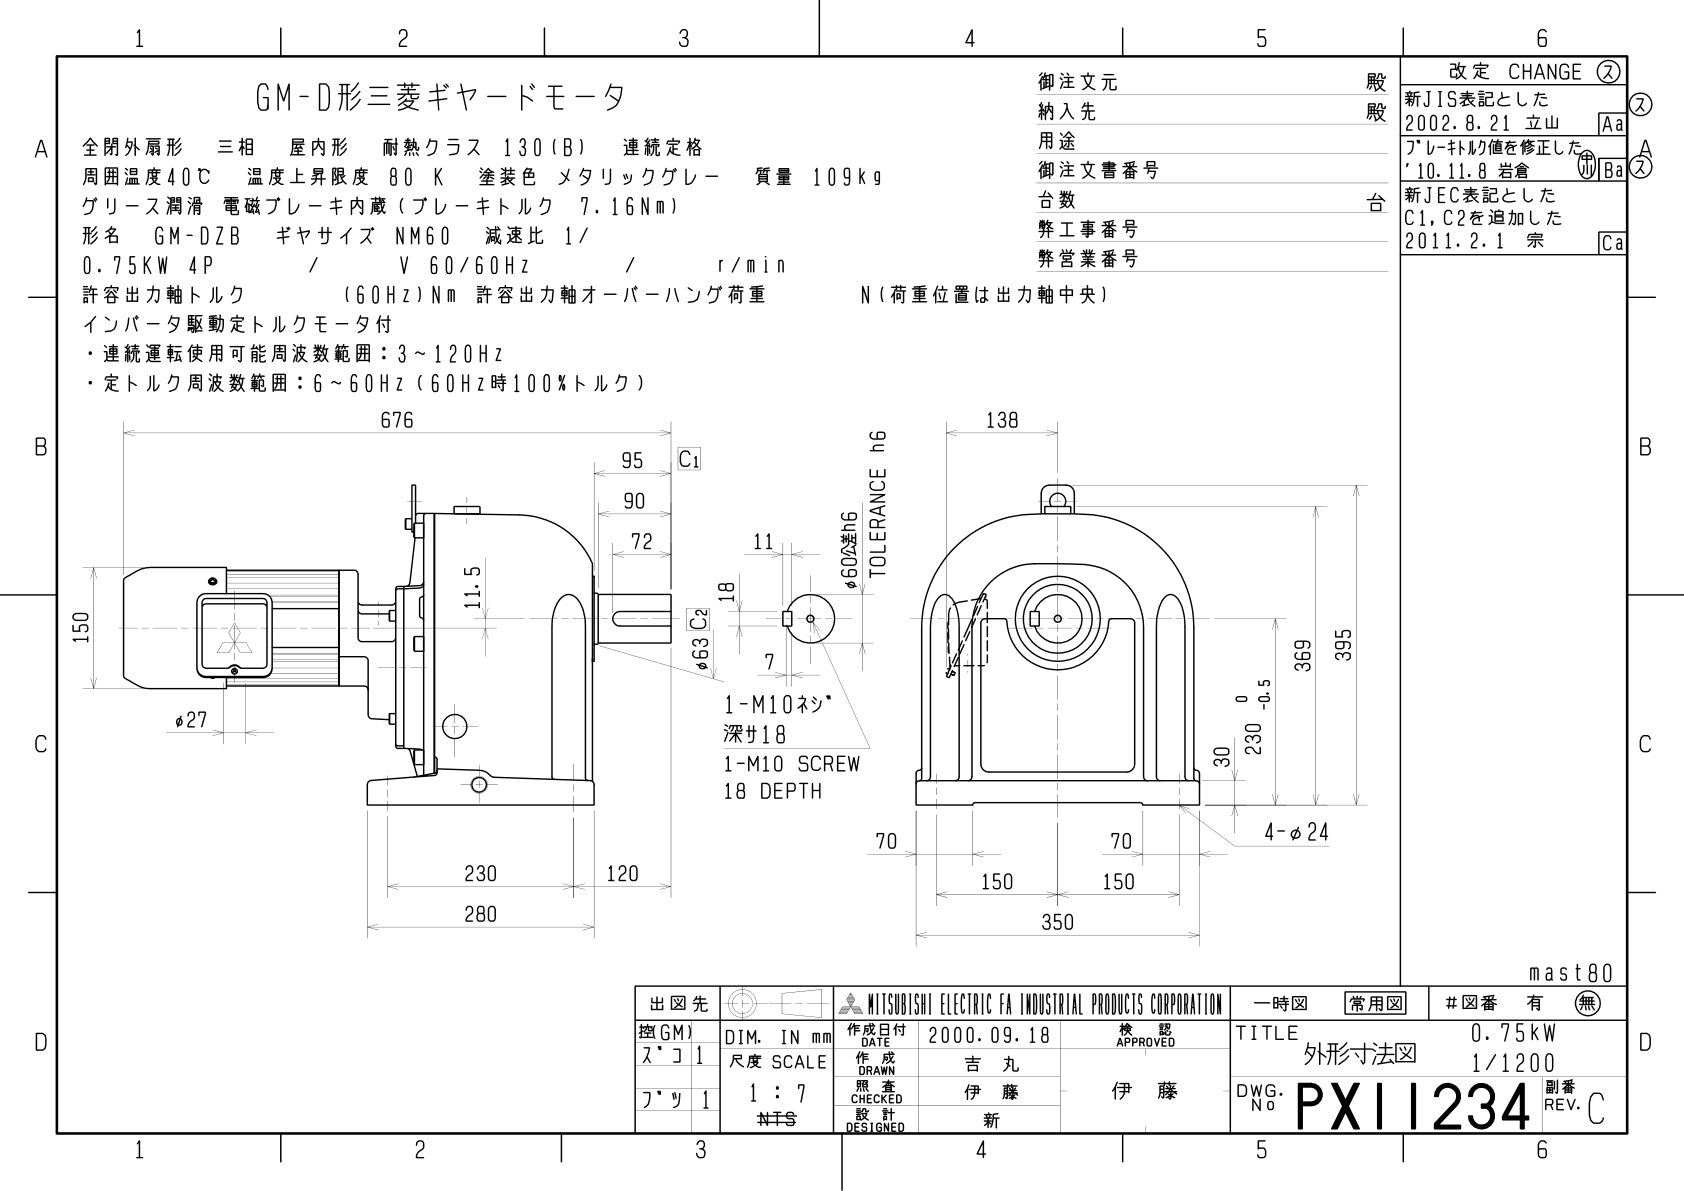GM_D_インバータ屋内_三相_脚: (64, 400, 1370, 956)
